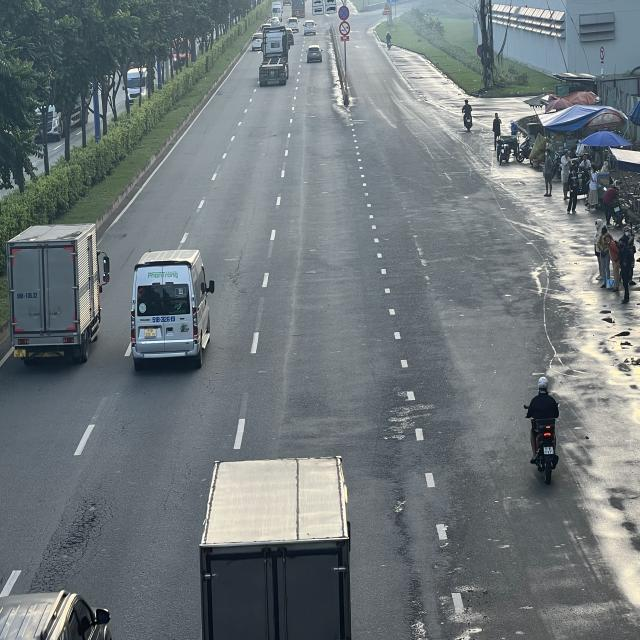container: (258, 26, 290, 86)
truck: (201, 461, 354, 640), (6, 223, 111, 366)
van: (128, 248, 213, 368)
